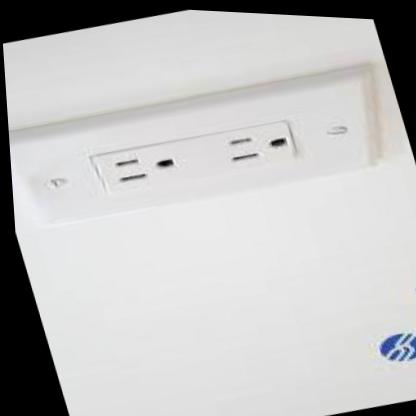OUTLET: (3, 47, 404, 253)
